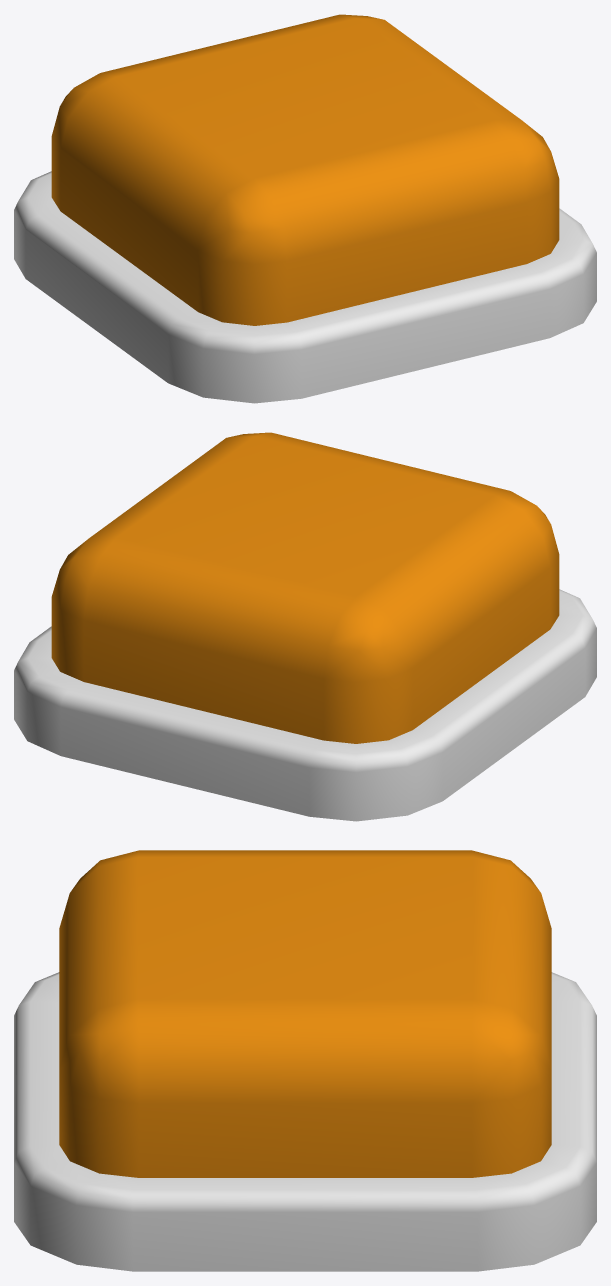
The model's file is Wall_Island.fbx.
The picture shows the model from 3 angles, top to bottom: view 1: azimuth 30°, elevation 25°; view 2: azimuth 150°, elevation 25°; view 3: azimuth 270°, elevation 25°; orthographic projection. The views are drawn at different scales.
Visible parts, largest first — view 1: Wall_Island; view 2: Wall_Island; view 3: Wall_Island.
Boxes of the visible parts, x1,y1,x2,y2 form: Wall_Island: (14, 14, 596, 403); Wall_Island: (14, 432, 596, 821); Wall_Island: (14, 850, 596, 1271).
Size of the model in its own units: 70.82 by 29.51 by 70.82.
